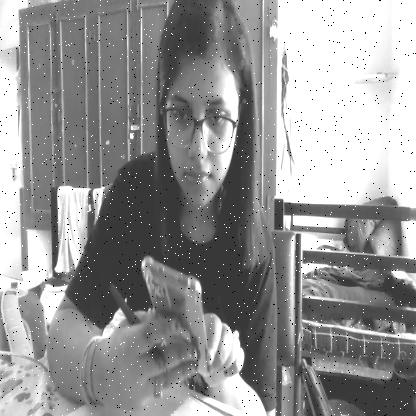Normal: (159, 0, 246, 215)
